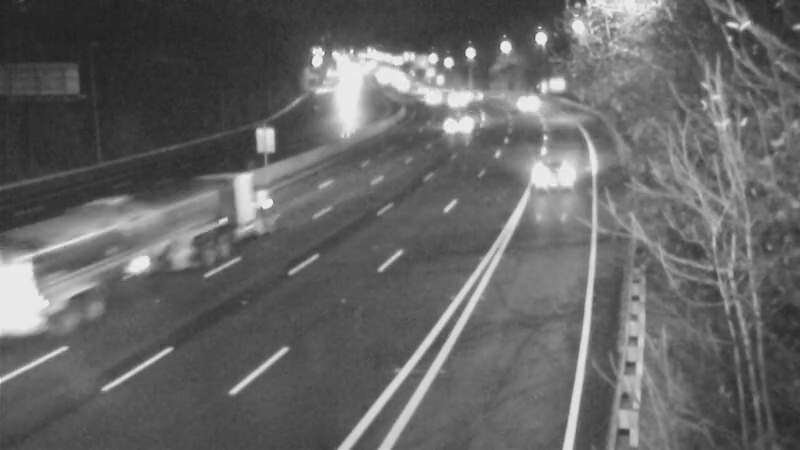vehicle: (512, 137, 592, 217), (1, 251, 76, 331), (409, 74, 459, 124), (448, 68, 498, 118), (502, 78, 552, 128), (431, 74, 481, 124), (431, 101, 481, 151)
